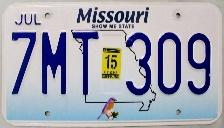0: (156, 30, 183, 95)
3: (124, 29, 154, 97)
7: (6, 30, 39, 97)
9: (185, 31, 213, 95)
M: (39, 30, 68, 96)
T: (70, 29, 100, 97)
